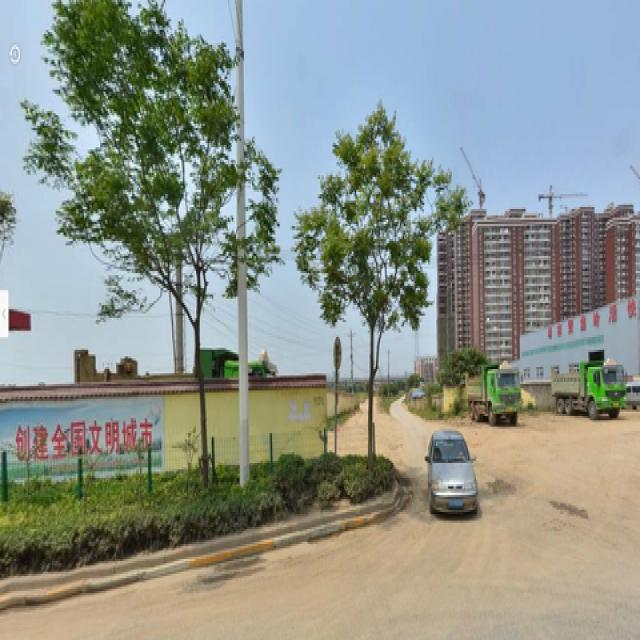koel: (305, 111, 452, 463)
